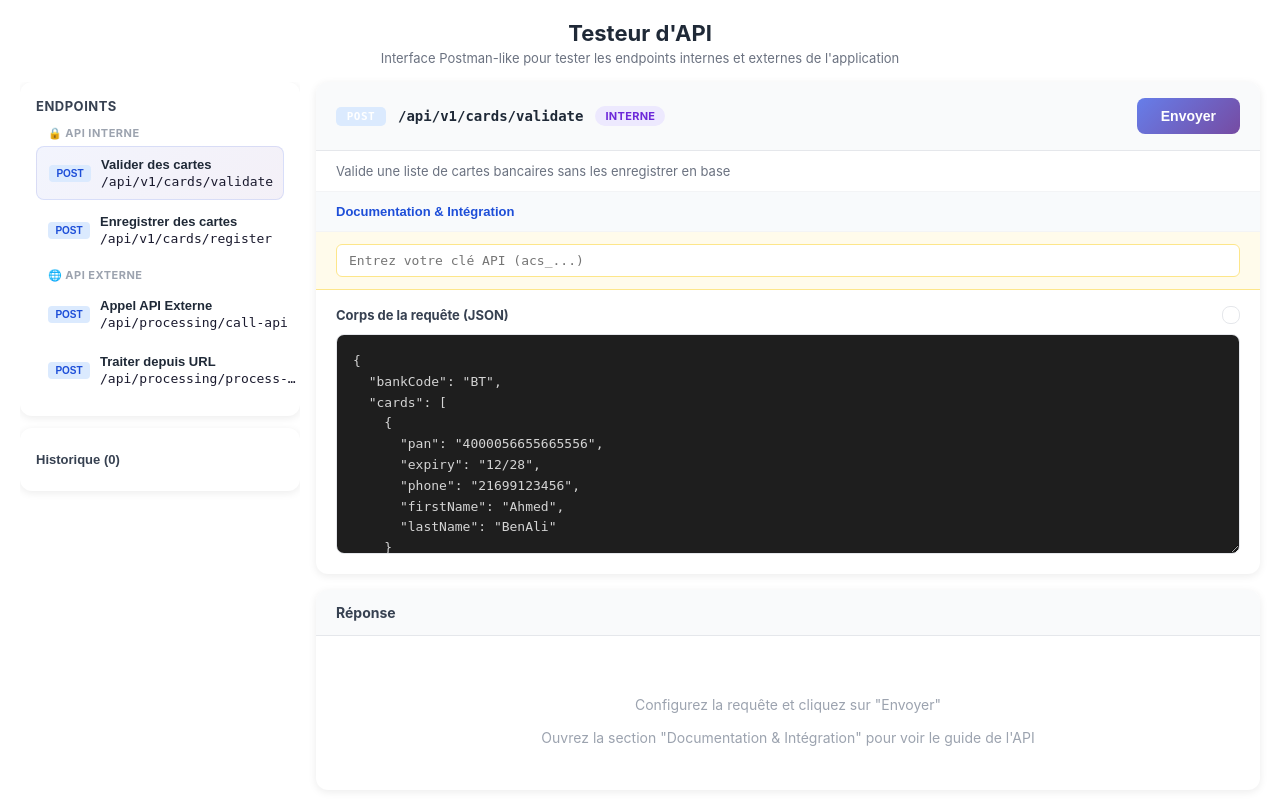
ApiTester › shows format error on invalid JSON
This screenshot has width=1280, height=800.
Replace the text in the text box with "not valid json". click: (788, 444)
box: [336, 334, 1240, 554]
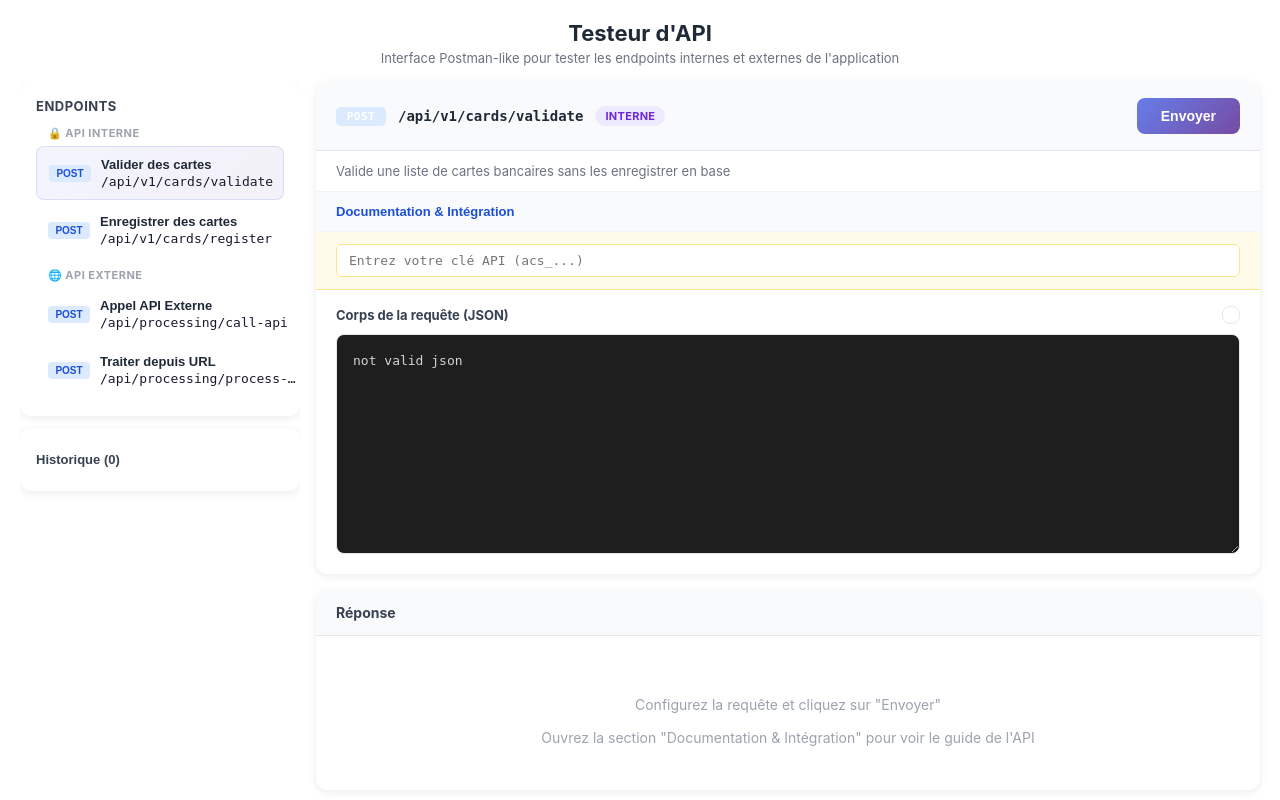
Click the button "Envoyer". click: (1188, 116)
box: [1137, 98, 1240, 134]
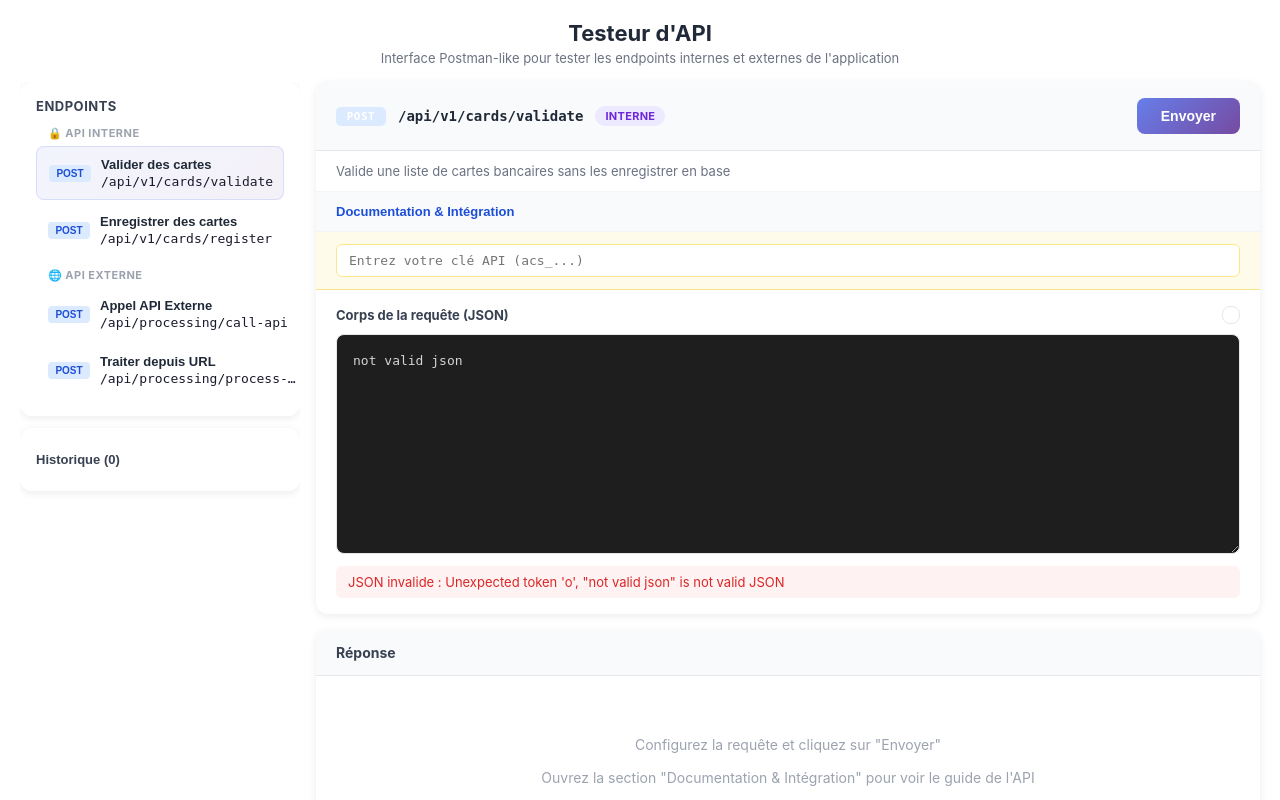
Result: the text "JSON invalide" is shown at [348, 574, 785, 590]
